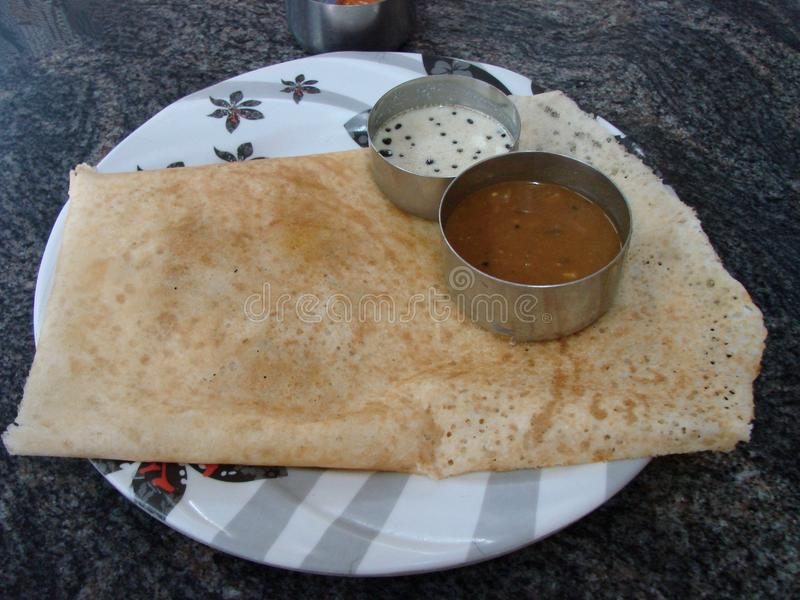dosa: (8, 90, 770, 481)
